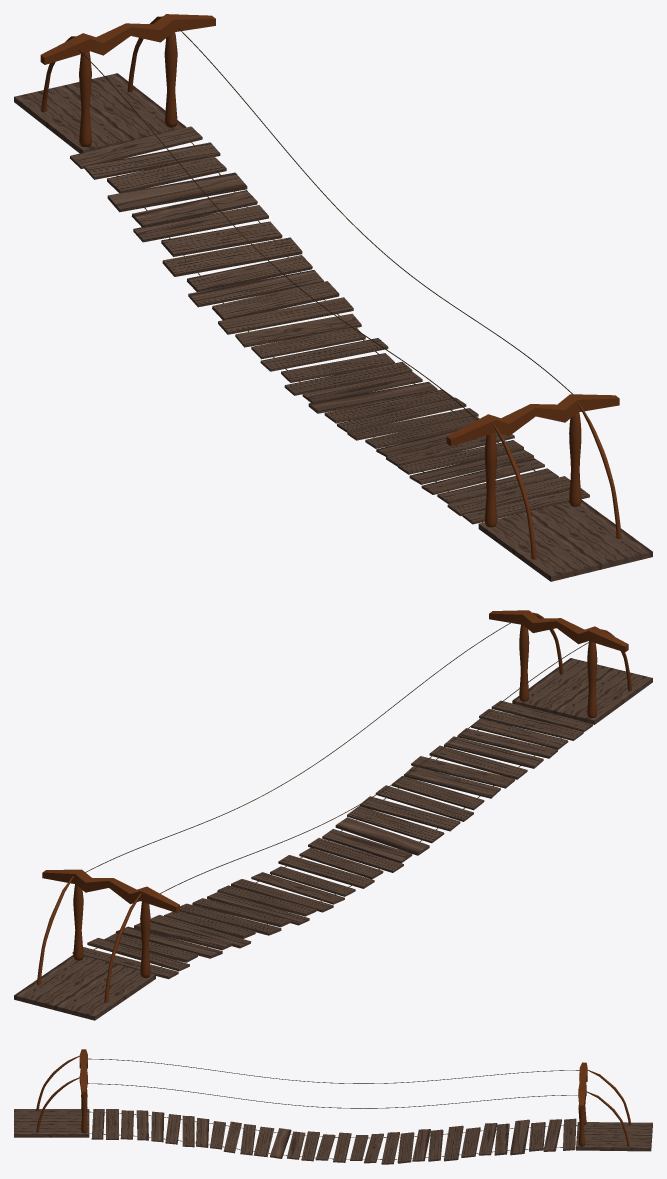
The model's file is rope_bridge2.glb.
3 views of the same model, one above another, from view 1: azimuth 30°, elevation 25°; view 2: azimuth 150°, elevation 25°; view 3: azimuth 270°, elevation 25° (orthographic). The views are drawn at different scales.
Visible parts, largest first — view 1: pCube22; view 2: pCube22; view 3: pCube22.
Boxes of the visible parts, <box> form: pCube22: <box>14,14,652,581</box>; pCube22: <box>14,610,652,1020</box>; pCube22: <box>14,1049,652,1164</box>.
Bounding box in the file's own units: 5.1 × 3.07 × 22.24.
3 materials, 3 textured.
